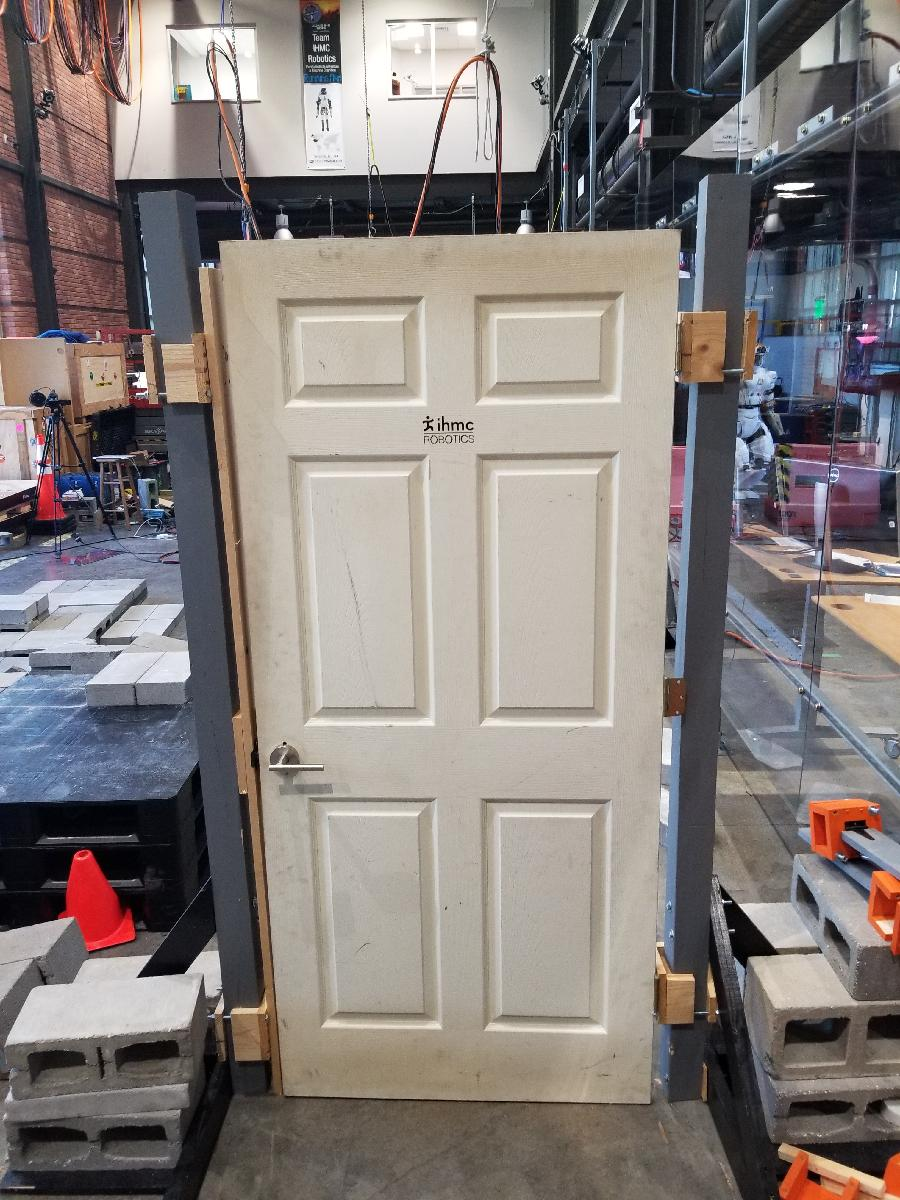door: (210, 225, 687, 1110)
doorHandle: (259, 740, 332, 790)
